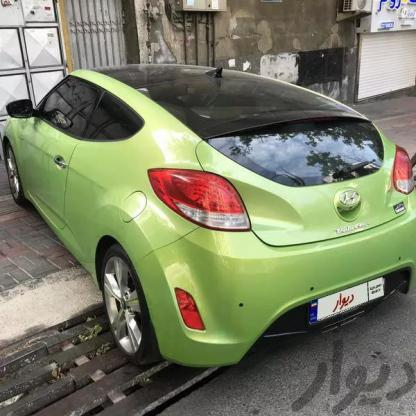Car: (0, 61, 416, 383)
